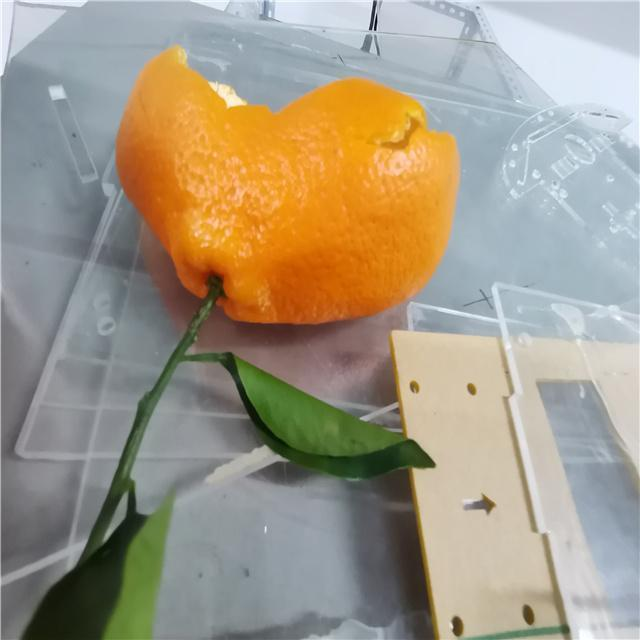orange peel: (112, 44, 462, 324)
